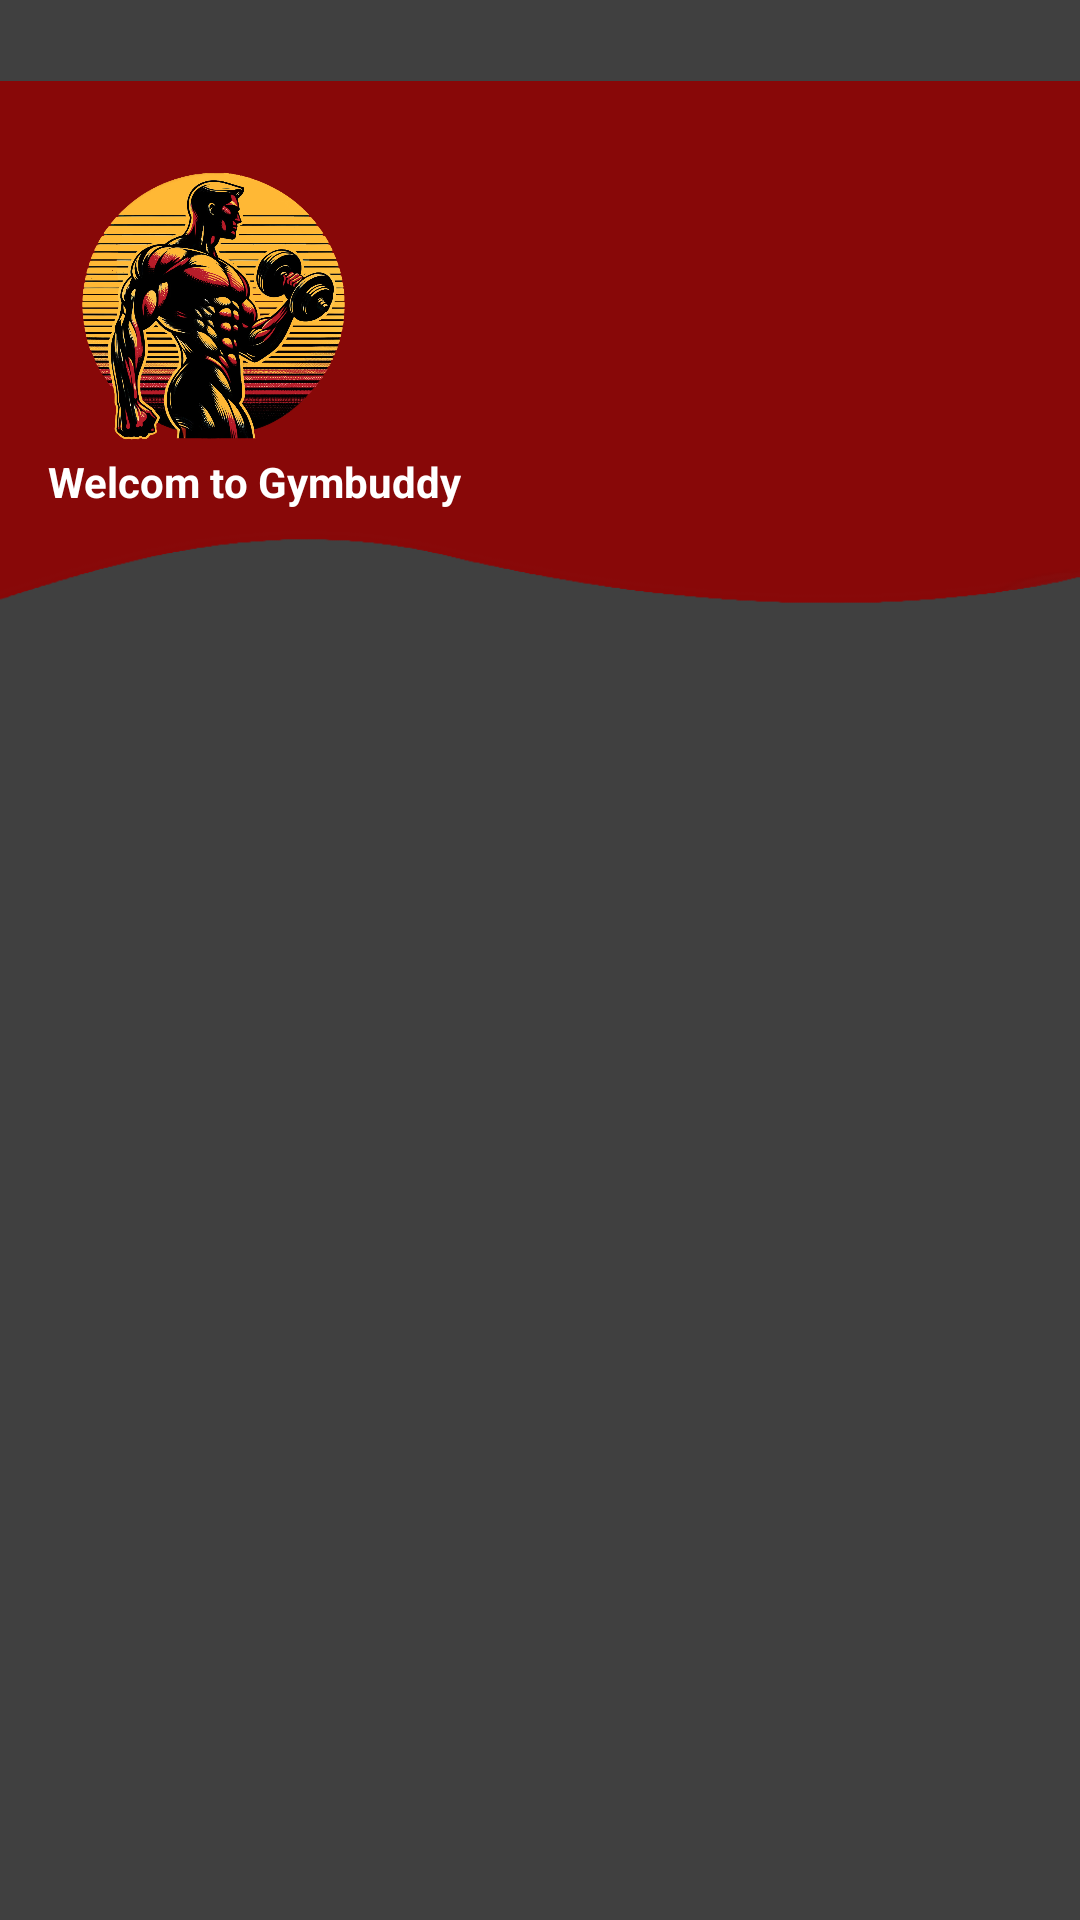

Where icons sit on this 1080×1920 app screen, as (x1, y1, x2, y2):
dumbbell man: (82, 173, 345, 440)
